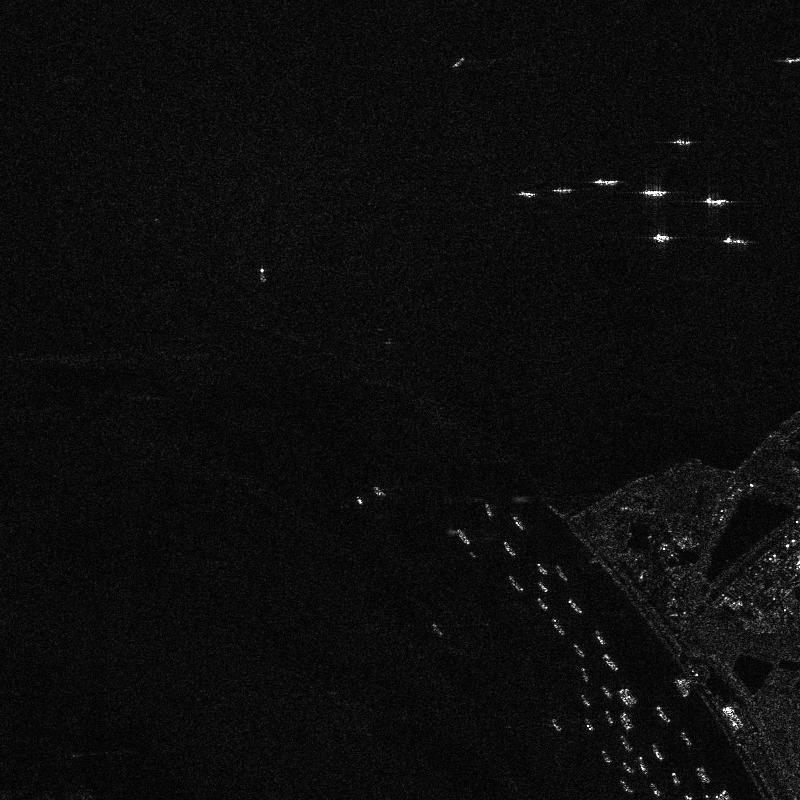ship: (602, 653, 618, 670), (675, 679, 689, 697), (619, 690, 633, 708), (508, 575, 523, 591), (457, 529, 471, 546), (656, 706, 670, 722), (696, 767, 710, 783), (551, 618, 564, 635), (567, 599, 582, 613), (624, 688, 637, 704), (620, 735, 632, 752), (554, 565, 567, 580), (503, 541, 516, 556), (594, 630, 606, 644), (572, 643, 584, 657), (513, 516, 525, 530), (652, 745, 663, 760), (622, 712, 633, 727), (619, 715, 630, 730), (638, 756, 647, 774), (705, 197, 728, 204), (680, 732, 692, 745), (643, 190, 667, 196), (649, 783, 660, 796), (619, 780, 630, 792), (601, 750, 611, 763), (723, 237, 744, 243), (622, 762, 633, 773), (453, 57, 464, 68), (537, 598, 547, 610), (432, 623, 442, 635), (584, 718, 593, 731), (594, 179, 617, 184), (653, 234, 669, 241), (536, 563, 546, 574), (601, 686, 611, 697), (580, 694, 590, 705), (552, 719, 561, 731), (671, 772, 680, 784), (581, 667, 588, 682), (605, 710, 613, 723), (484, 503, 492, 516), (538, 582, 548, 592), (518, 191, 534, 197), (674, 138, 690, 144), (785, 57, 799, 63), (259, 268, 265, 282), (374, 487, 383, 496), (553, 188, 571, 192), (357, 497, 363, 504), (469, 551, 475, 557)
